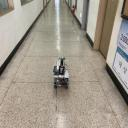cart: (53, 67, 69, 90)
